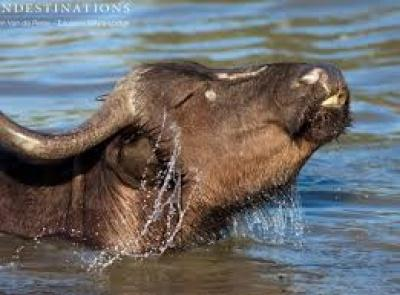buffalo: (0, 61, 354, 259)
